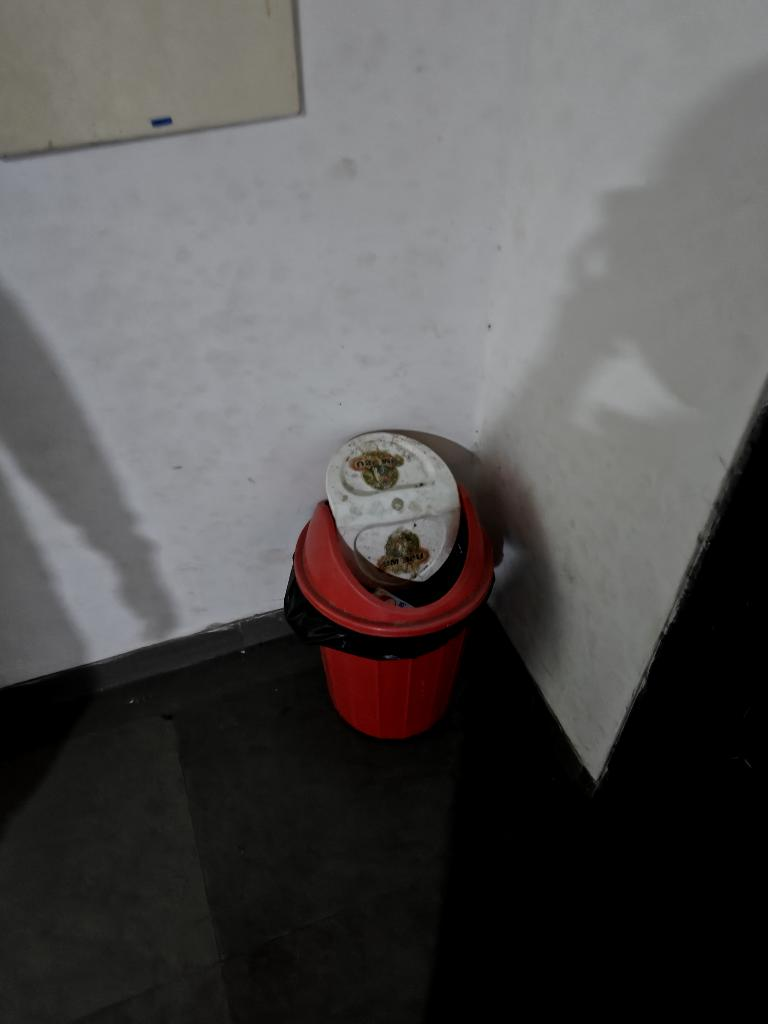dustbin: (259, 410, 533, 771)
